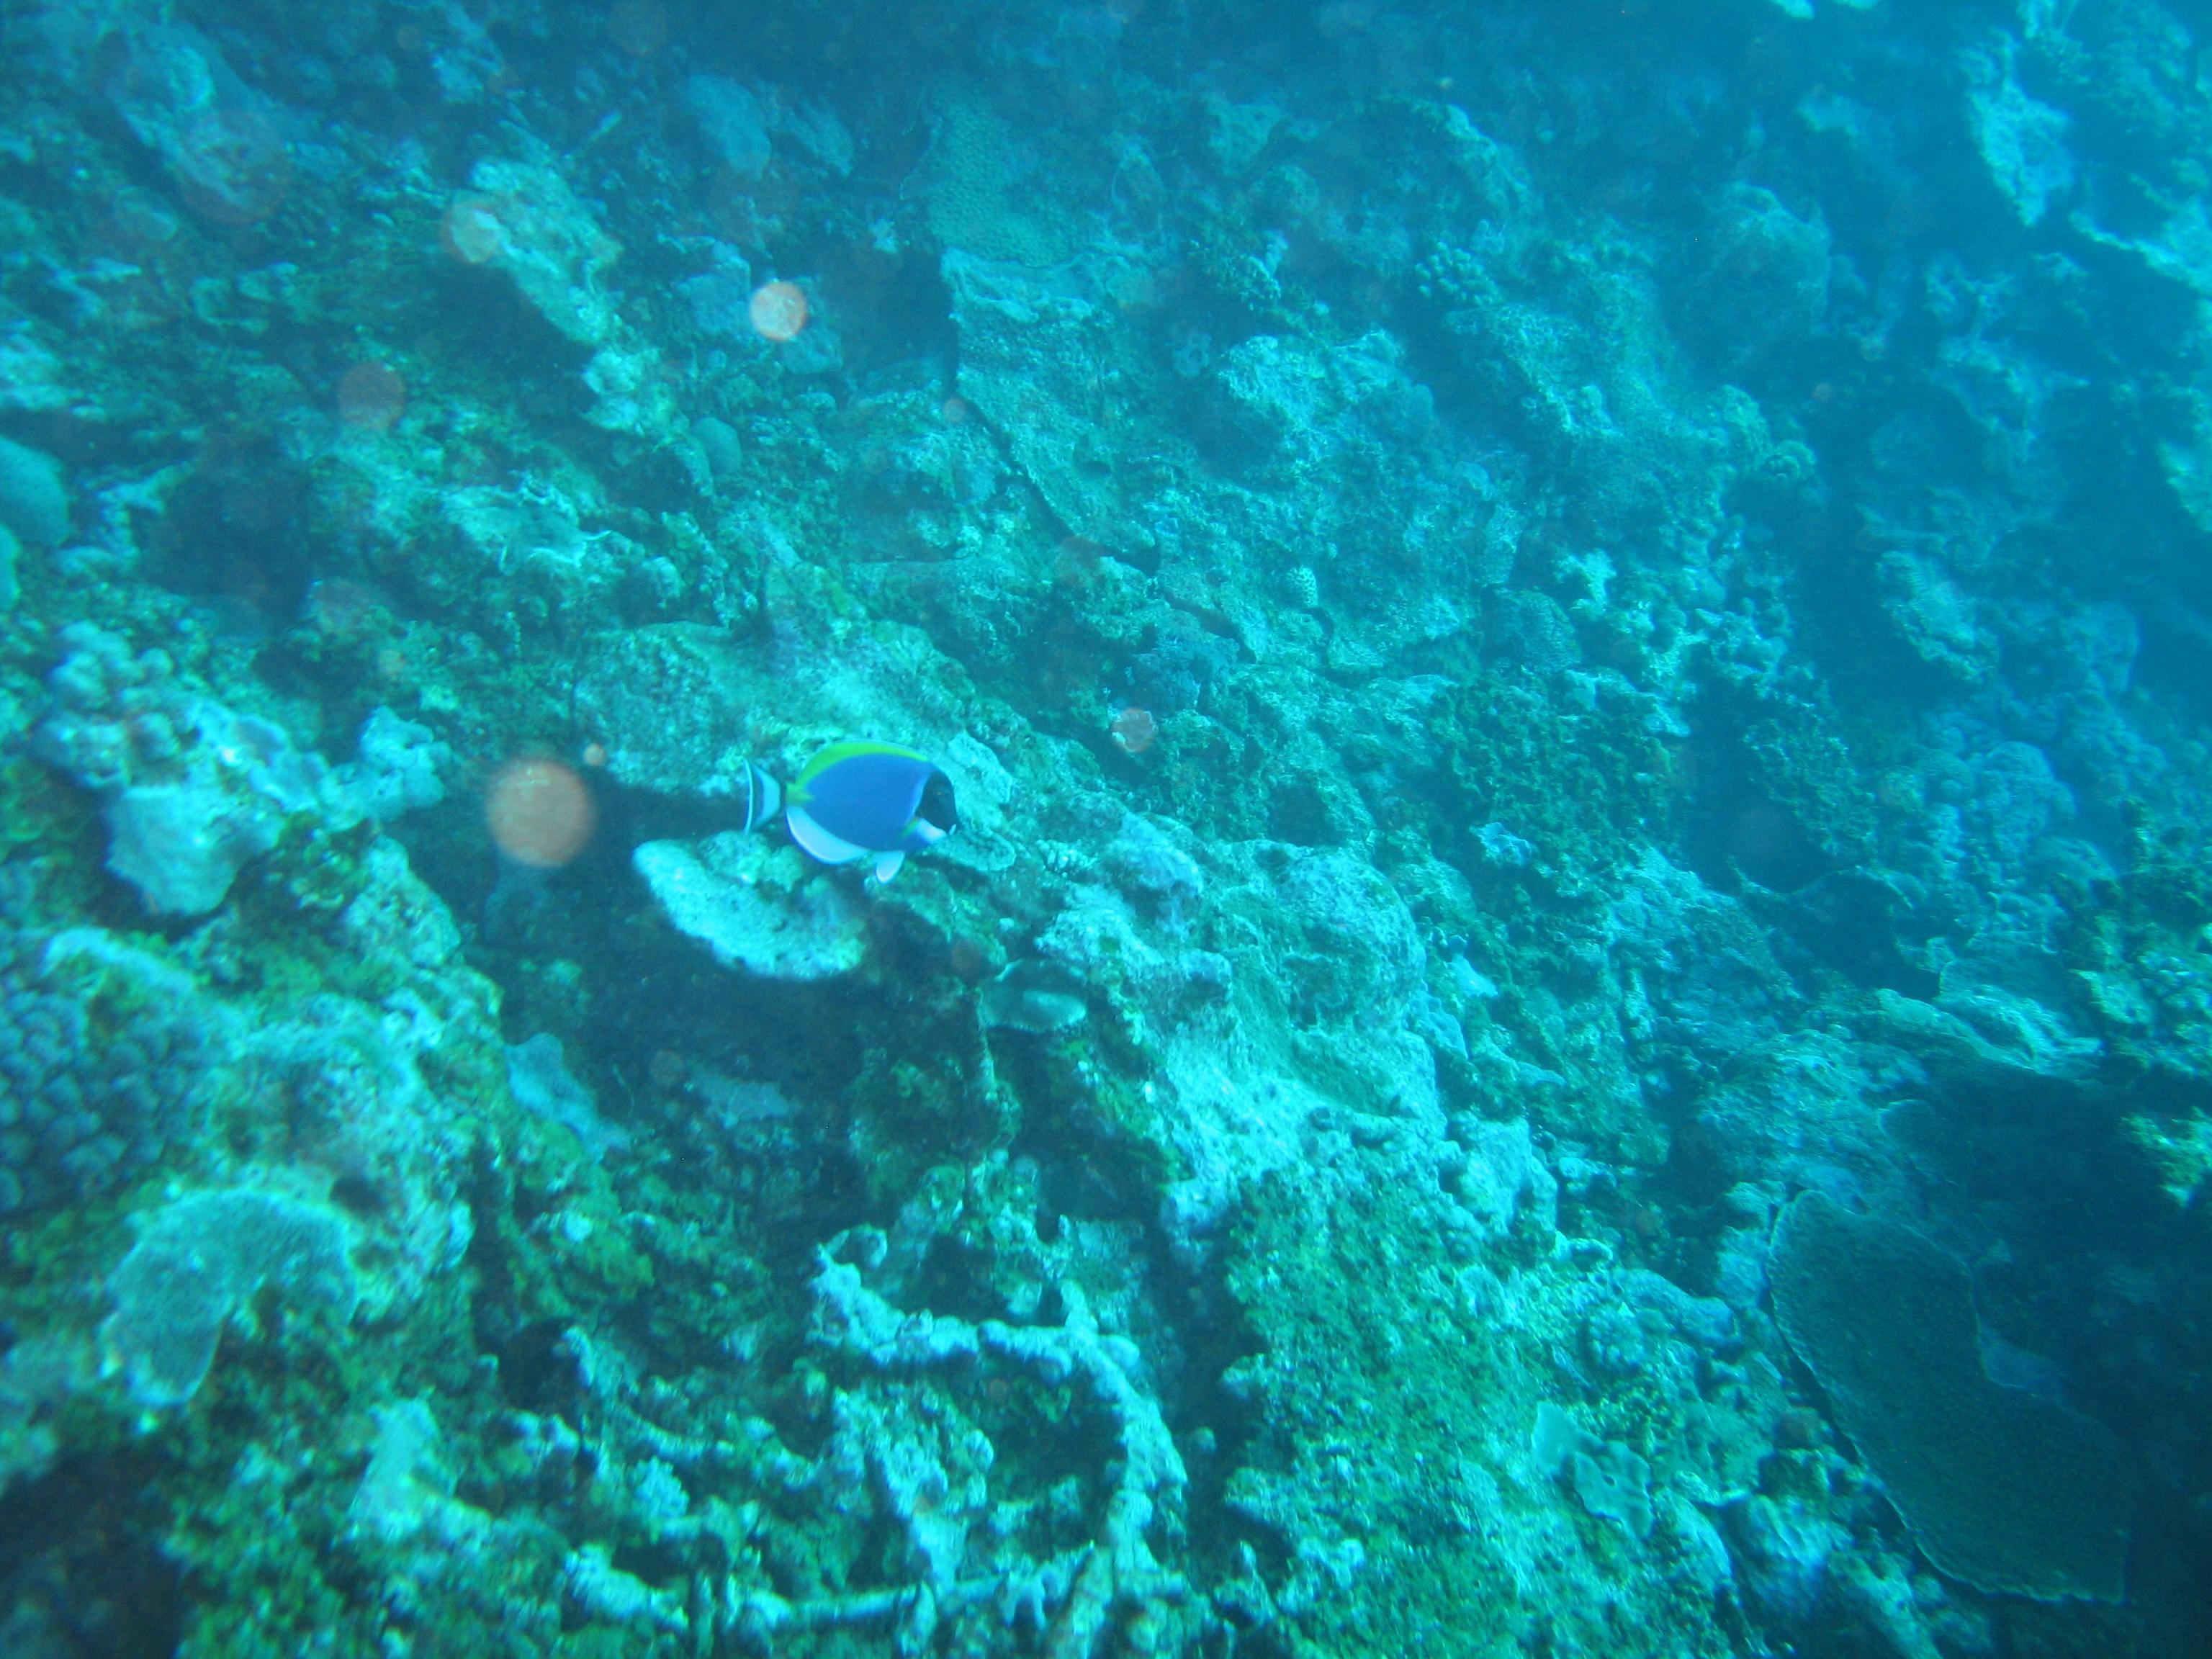Fish: (862, 925, 1282, 1110)
